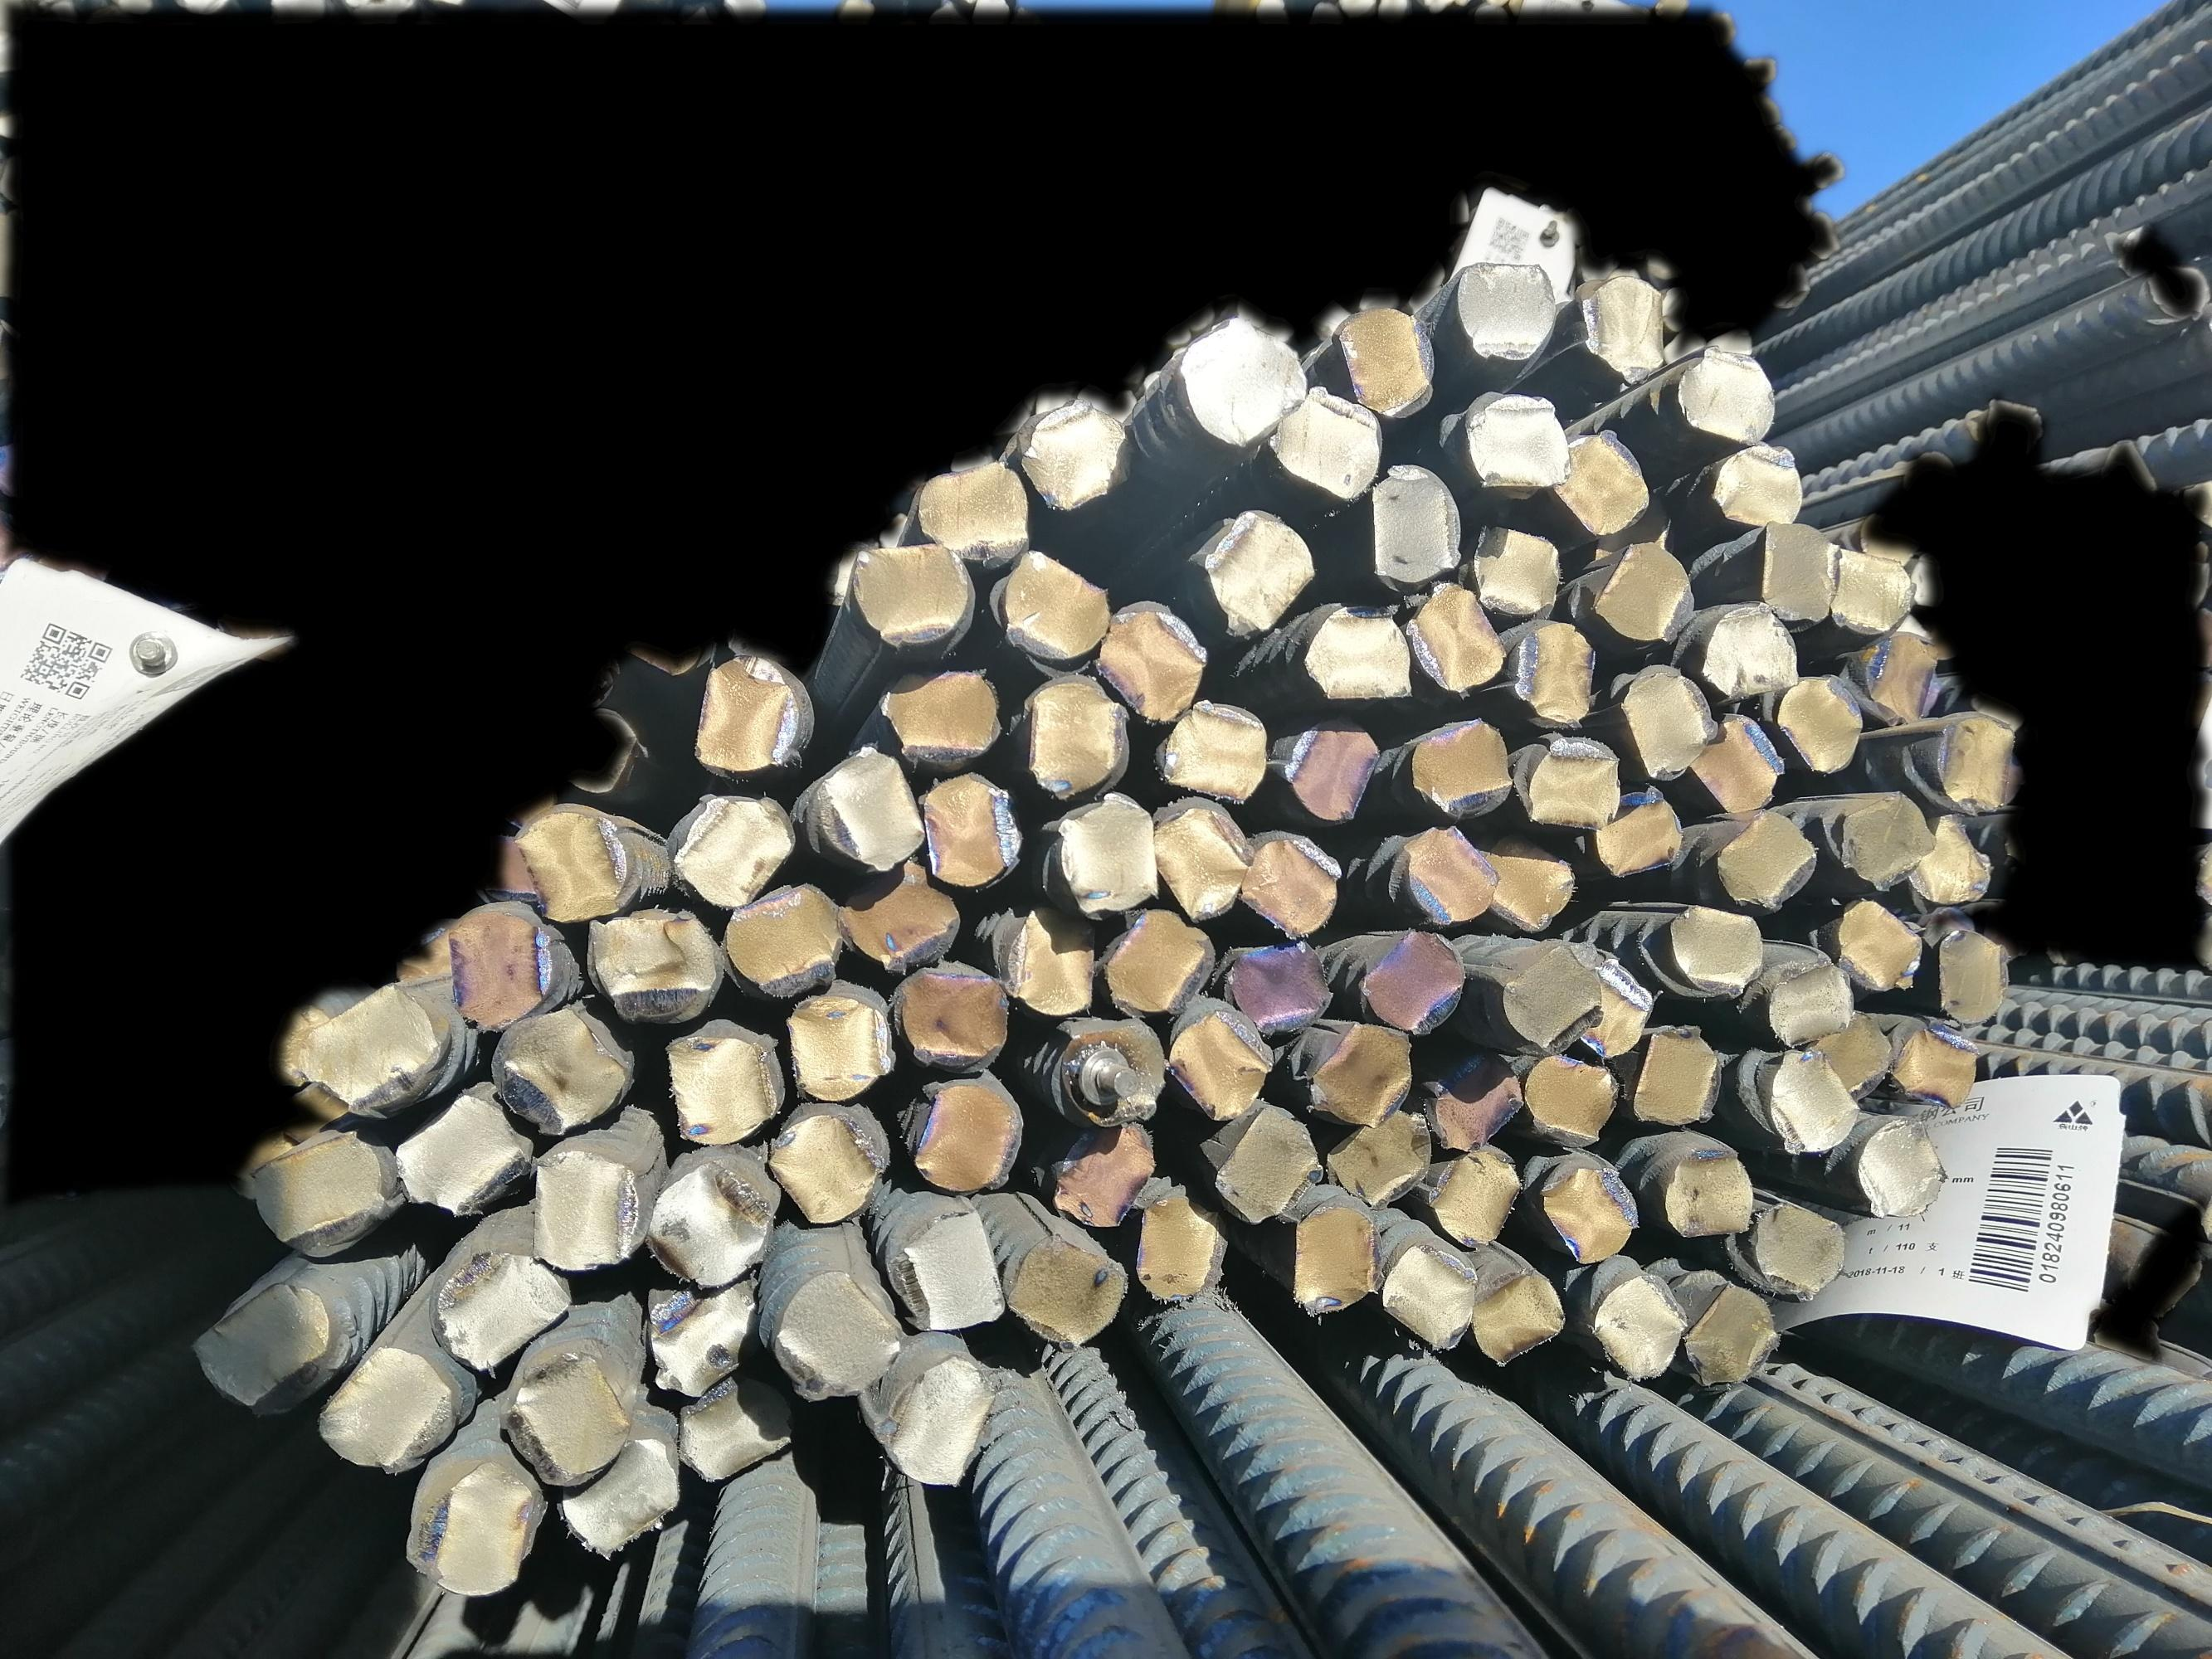bar: (190, 1276, 336, 1419), (497, 1349, 641, 1492), (298, 976, 438, 1119), (397, 1453, 535, 1598), (647, 1154, 784, 1297), (1175, 314, 1313, 450), (309, 1345, 451, 1473), (432, 1248, 575, 1375), (490, 1004, 624, 1136), (251, 1129, 387, 1260), (873, 1349, 997, 1488), (397, 1089, 523, 1218), (774, 1265, 896, 1398), (988, 547, 1110, 674), (439, 899, 560, 1028), (887, 1202, 1008, 1331), (587, 906, 720, 1023), (558, 1434, 680, 1560), (1008, 1227, 1131, 1349), (526, 1147, 643, 1276), (661, 1023, 781, 1147), (852, 535, 973, 659), (1023, 667, 1131, 805), (1198, 507, 1314, 634), (512, 802, 633, 924), (675, 1371, 800, 1488), (725, 878, 844, 1000), (913, 1072, 1032, 1194), (838, 854, 959, 972), (675, 795, 797, 911), (1269, 380, 1386, 502), (1095, 605, 1210, 727), (695, 652, 807, 777), (814, 744, 924, 870), (875, 664, 1004, 770), (917, 762, 1023, 890), (767, 1110, 882, 1229), (645, 1276, 758, 1396), (917, 455, 1034, 570), (892, 953, 1009, 1068), (1492, 934, 1604, 1053), (1210, 1103, 1316, 1227), (1053, 791, 1157, 917), (1021, 397, 1133, 514), (1166, 1007, 1278, 1122), (1616, 659, 1717, 784), (1330, 303, 1440, 418), (786, 988, 894, 1105), (1452, 256, 1562, 369), (1407, 577, 1506, 701), (1053, 1117, 1159, 1232), (1222, 936, 1337, 1042), (1055, 1023, 1175, 1124), (1377, 1239, 1482, 1354), (1239, 829, 1344, 945), (1152, 701, 1267, 805), (1363, 460, 1459, 586), (1300, 603, 1417, 706), (1149, 800, 1250, 918), (1105, 906, 1213, 1016), (1417, 1044, 1525, 1154), (1586, 1270, 1689, 1384), (1353, 929, 1466, 1030), (1288, 1201, 1384, 1319), (1679, 1276, 1780, 1387), (1591, 540, 1705, 640), (1408, 716, 1515, 821), (1131, 1187, 1227, 1302), (1574, 270, 1668, 387), (1279, 716, 1381, 824), (1694, 598, 1802, 699), (1476, 826, 1576, 936), (1311, 1021, 1414, 1126), (1466, 1262, 1567, 1368), (1466, 389, 1567, 495), (1513, 612, 1604, 728), (1394, 821, 1497, 924), (1832, 788, 1937, 889), (1712, 812, 1818, 911), (1327, 1110, 1435, 1208), (1553, 427, 1649, 537), (1675, 345, 1778, 446), (1004, 903, 1095, 1016), (1853, 1112, 1944, 1223), (1520, 735, 1623, 833), (1541, 1162, 1639, 1265), (1930, 708, 2022, 816), (1689, 711, 1785, 814), (1520, 1053, 1619, 1150), (1590, 484, 1691, 580), (1424, 1145, 1518, 1248), (1752, 1194, 1846, 1297), (1666, 899, 1762, 999), (1759, 512, 1839, 631), (1771, 1047, 1858, 1155), (1825, 535, 1917, 636), (1903, 807, 1998, 904), (1762, 948, 1855, 1046), (1855, 629, 1947, 727), (1632, 1023, 1720, 1124), (1773, 673, 1862, 774), (1834, 890, 1924, 988), (1705, 441, 1802, 530), (1593, 786, 1686, 878), (1663, 1143, 1752, 1239), (1469, 518, 1558, 612), (1930, 929, 2010, 1028), (1809, 1004, 1891, 1100), (1581, 948, 1654, 1054), (1891, 1021, 1977, 1105)
